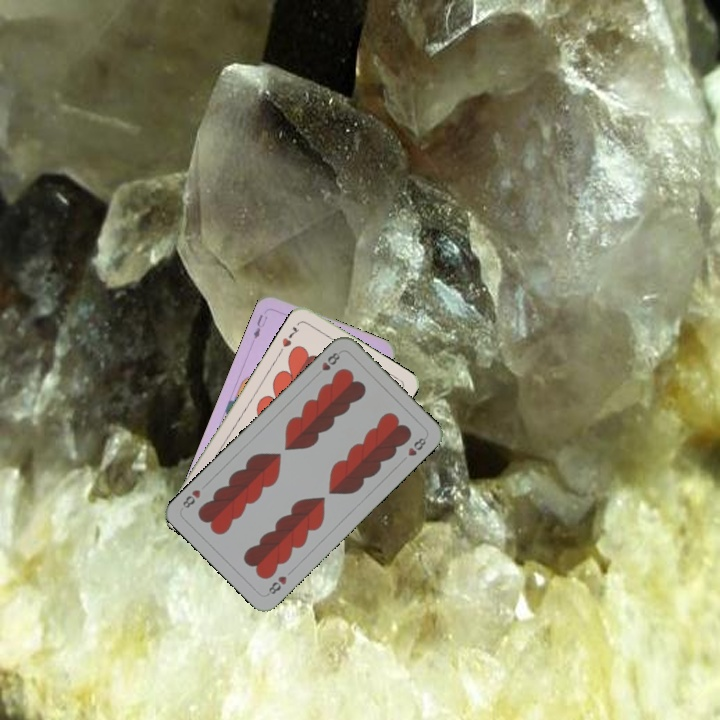EU: (249, 310, 270, 341)
H7: (278, 322, 302, 350)
H8: (311, 348, 342, 379), (263, 572, 289, 598)
